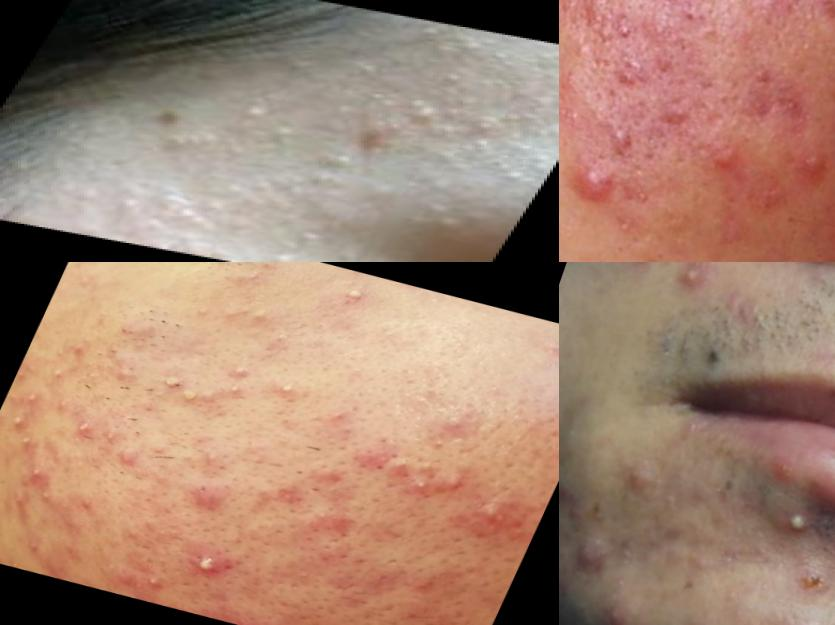blackhead: (418, 429, 463, 461)
folliculitis: (179, 481, 239, 520), (265, 373, 316, 416), (329, 276, 379, 315), (166, 378, 216, 414), (152, 368, 188, 401), (225, 358, 264, 385)
papular: (323, 107, 428, 163), (568, 158, 639, 227), (609, 449, 668, 515), (694, 136, 756, 196), (564, 535, 612, 585), (588, 590, 639, 625), (617, 263, 664, 285)
purulent: (669, 263, 723, 304), (180, 546, 234, 584), (779, 503, 817, 545), (64, 410, 101, 450), (17, 461, 56, 492), (18, 384, 59, 413), (135, 570, 173, 596), (403, 474, 441, 499), (1, 405, 35, 432), (13, 433, 42, 456)
sebo-crystan-conglo: (560, 449, 611, 545), (780, 555, 835, 615), (473, 497, 525, 544)
whitehead: (81, 178, 267, 256), (383, 17, 527, 76), (394, 181, 505, 242), (256, 218, 388, 263), (140, 127, 218, 173), (221, 88, 302, 128), (566, 31, 614, 72), (431, 469, 480, 499), (410, 456, 444, 480), (323, 407, 358, 430), (388, 454, 417, 477)
